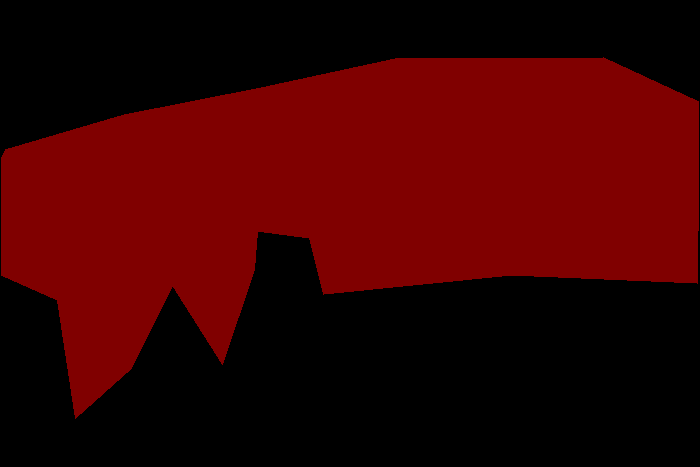fire: (1, 57, 698, 418)
